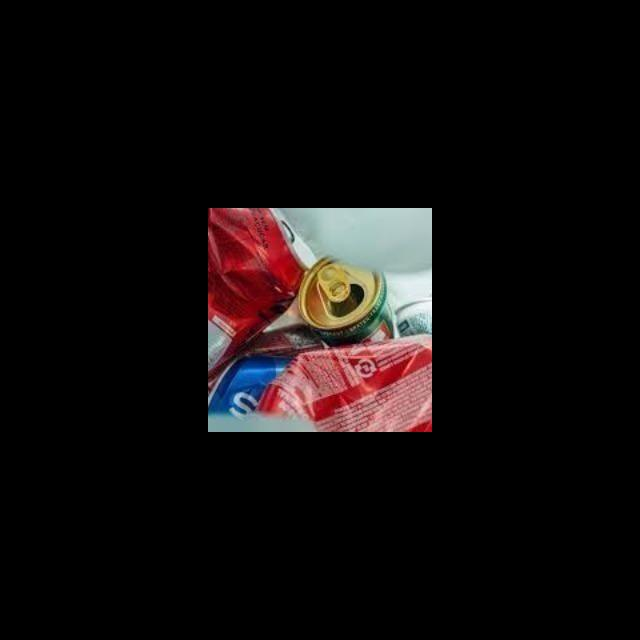metal: (252, 340, 432, 432), (208, 208, 308, 359), (296, 253, 392, 338)
